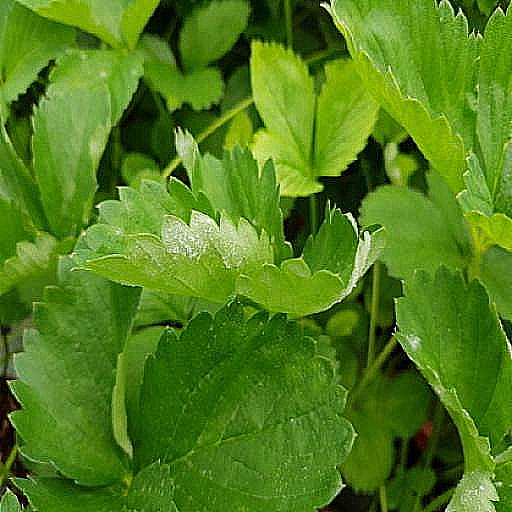Powdery Mildew Leaf: (236, 176, 444, 304), (0, 262, 122, 476), (126, 199, 278, 316), (217, 126, 341, 265), (0, 445, 70, 511)
